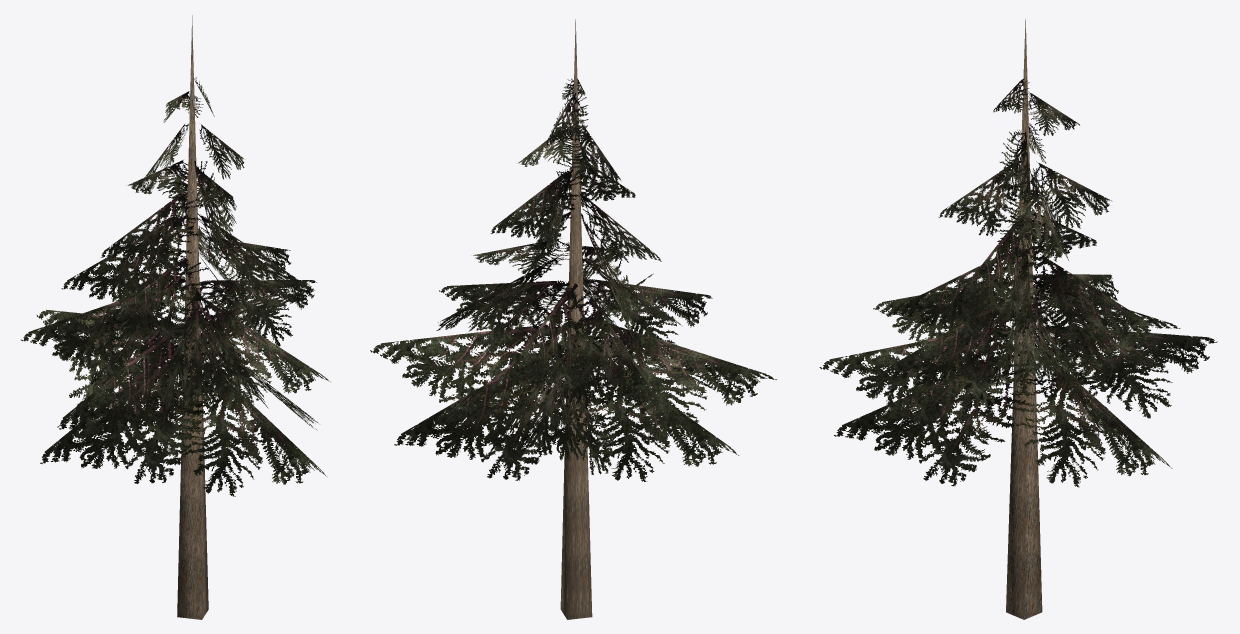
The model's file is ever_pinetree_small_l2.fbx.
3 renders of one model, left to right at view 1: azimuth 30°, elevation 25°; view 2: azimuth 150°, elevation 25°; view 3: azimuth 270°, elevation 25°, orthographic.
Parts seen in each view (by area): view 1: mesh_node; view 2: mesh_node; view 3: mesh_node.
Boxes of the visible parts, x1=… form: mesh_node: x1=21, y1=15, x2=330, y2=619; mesh_node: x1=370, y1=19, x2=776, y2=619; mesh_node: x1=819, y1=19, x2=1217, y2=619.
Size of the model in its own units: 6.12 by 10.12 by 6.35.
